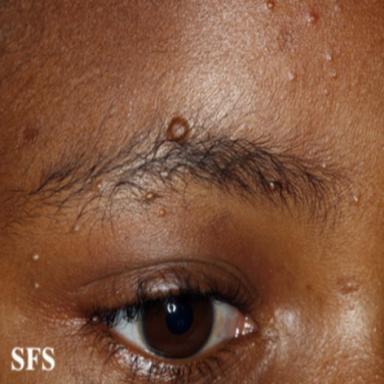Molluscum-Contagiosum: (167, 116, 189, 141), (0, 29, 3, 86), (266, 0, 275, 9), (269, 180, 275, 190), (145, 193, 153, 200), (32, 253, 40, 260), (159, 209, 166, 216), (353, 195, 359, 203), (96, 183, 102, 189), (35, 282, 40, 289), (74, 225, 79, 231)
